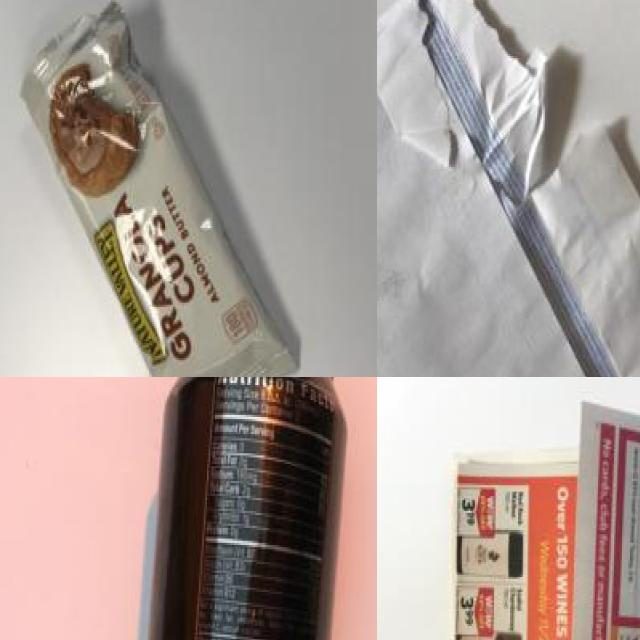paper: (377, 0, 640, 377), (455, 418, 640, 640)
plastic: (131, 377, 334, 640)
trash: (2, 0, 312, 377)
